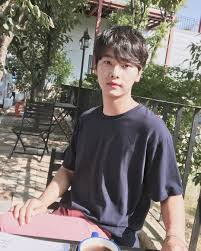people: (64, 26, 172, 251)
